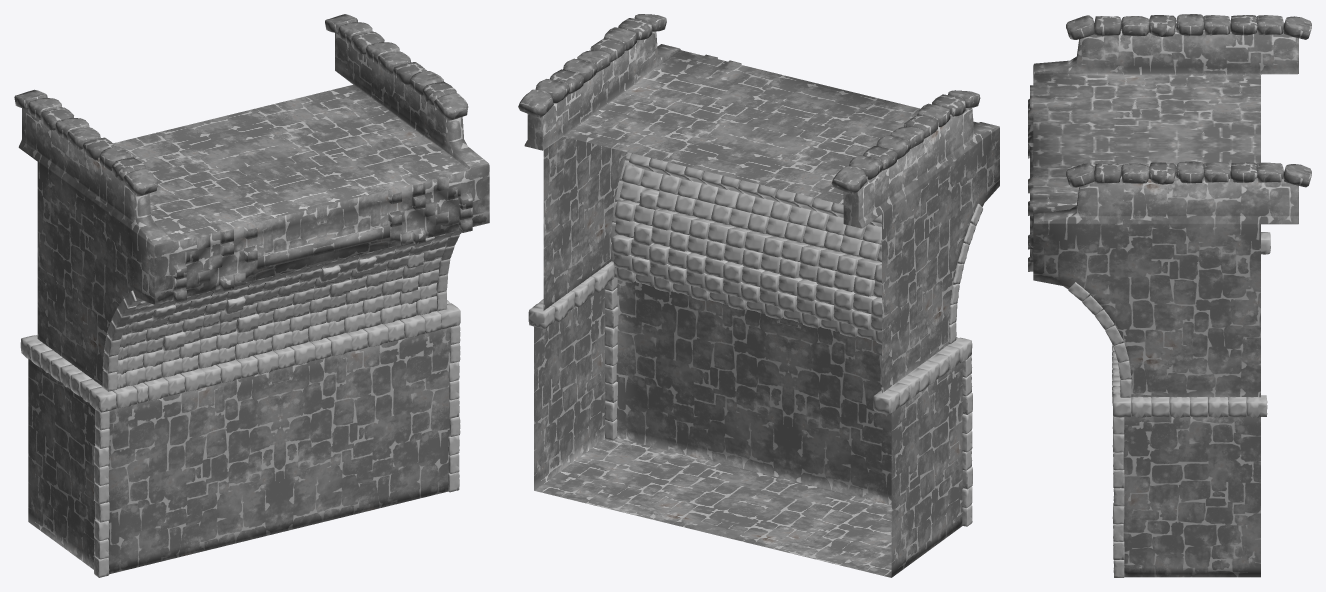
File: BrokenBridgeWallStartEnd.fbx
3 views of the same model, side by side, from view 1: azimuth 30°, elevation 25°; view 2: azimuth 150°, elevation 25°; view 3: azimuth 270°, elevation 25° (orthographic). The views are drawn at different scales.
Parts seen in each view (by area): view 1: BrokenBridgeWallStartEnd; view 2: BrokenBridgeWallStartEnd; view 3: BrokenBridgeWallStartEnd.
Part boxes in pixels (left/top/right/bottom): BrokenBridgeWallStartEnd: left=14, top=14, right=489, bottom=577; BrokenBridgeWallStartEnd: left=518, top=14, right=999, bottom=577; BrokenBridgeWallStartEnd: left=1028, top=14, right=1311, bottom=577.
Size of the model in its own units: 7.42 by 8.04 by 5.17.
